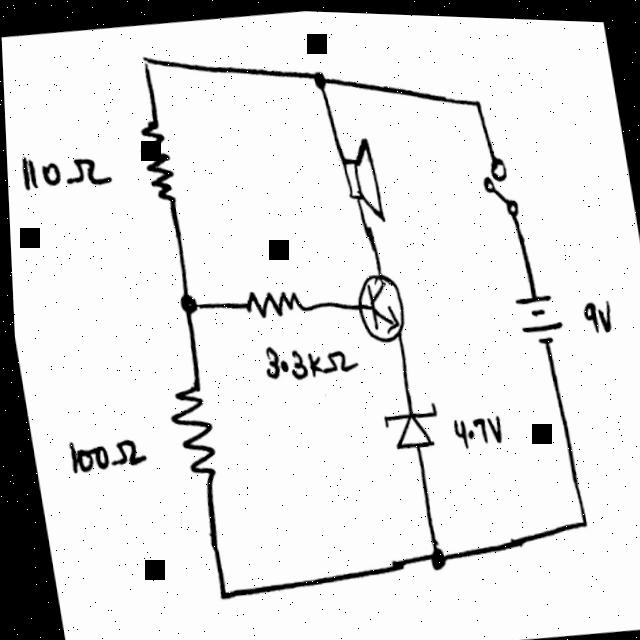diode: (377, 396, 438, 449)
junction: (419, 537, 449, 570), (174, 288, 197, 316), (137, 50, 157, 74), (467, 91, 486, 113), (209, 582, 226, 605), (310, 68, 328, 89), (570, 509, 588, 529)
resistor: (161, 380, 217, 479), (135, 118, 177, 204), (238, 284, 303, 317)
source: (509, 284, 565, 345)
switch: (474, 150, 521, 219)
text: (257, 335, 357, 382), (18, 148, 113, 193), (61, 432, 143, 473), (446, 410, 502, 449), (579, 295, 612, 329)
transistor: (349, 267, 406, 341)
